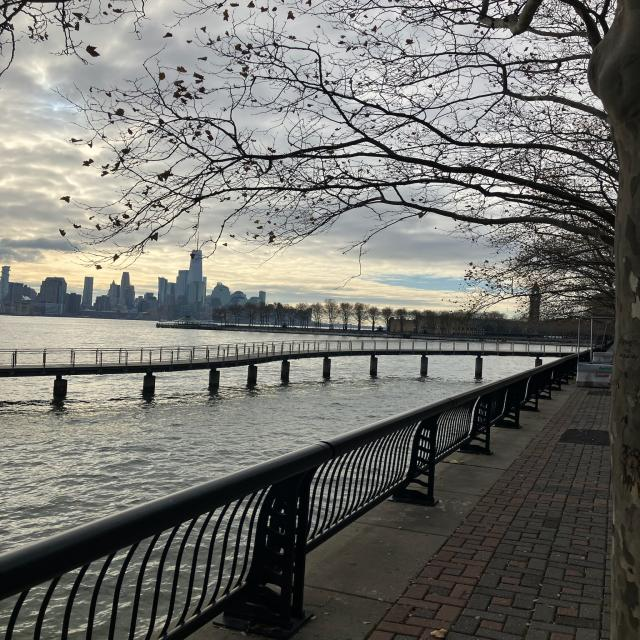WTC: (190, 230, 202, 282)
